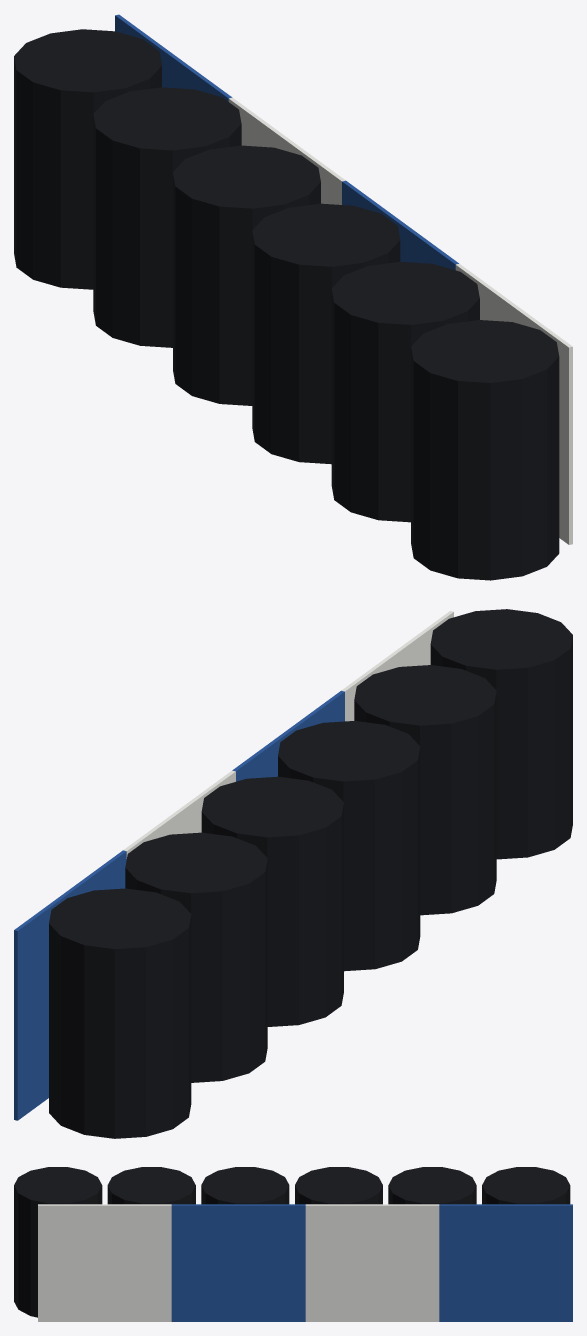
The model's file is tyre_wall_4m.glb.
3 views of the same model, one above another, from view 1: azimuth 30°, elevation 25°; view 2: azimuth 150°, elevation 25°; view 3: azimuth 270°, elevation 25° (orthographic). The views are drawn at different scales.
Parts seen in each view (by area): view 1: tyres; view 2: tyres; view 3: tyres.
Part boxes in pixels (bbox=[...]): tyres: bbox=[14, 14, 572, 580]; tyres: bbox=[14, 609, 572, 1138]; tyres: bbox=[14, 1167, 572, 1321].
Bounding box in the file's own units: 0.6817 × 0.96 × 4.18.
